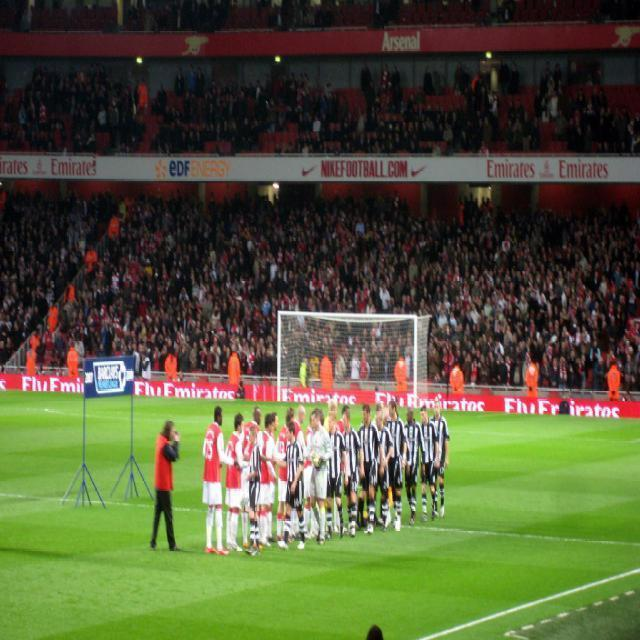ball: (309, 447, 324, 472)
